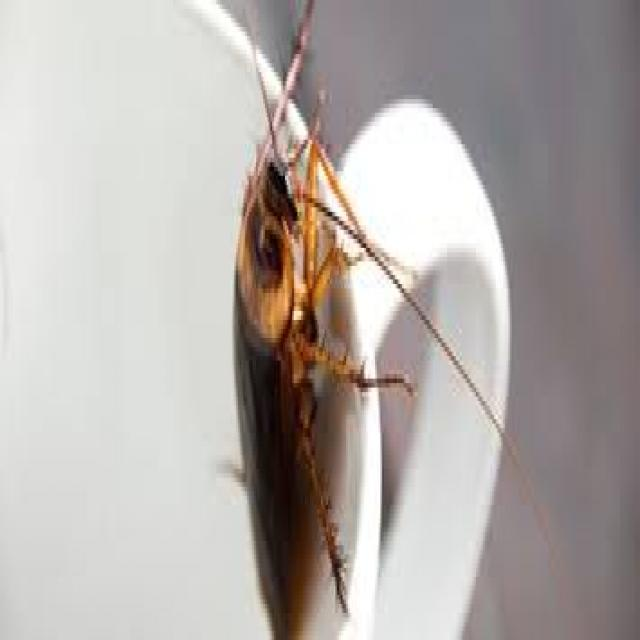Cockroach: (216, 0, 514, 640)
